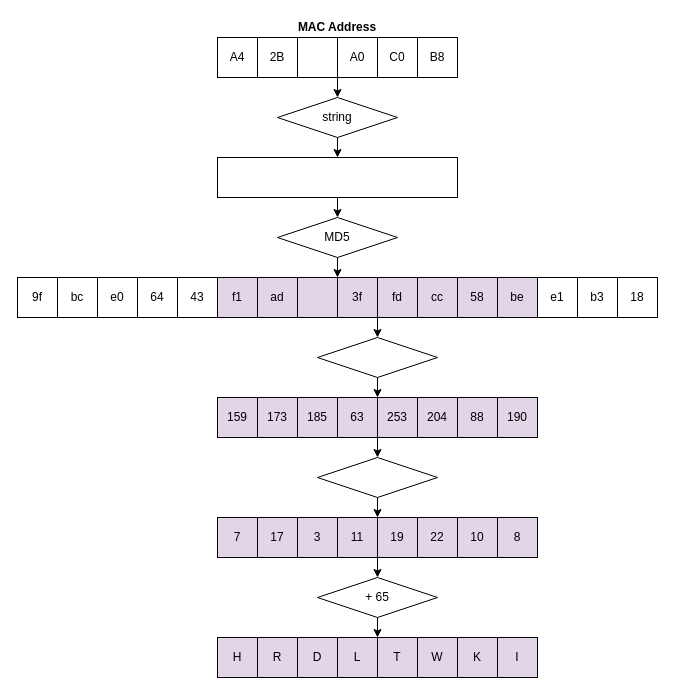
The diagram is 675 pixels wide and 695 high, and some of its shapes have lost their labels. The shapes that lost their labels are listed below. From the top down, each one's centre as x and y in pixels, then its label:
At [317,57]: "8C".
At [337,177]: "0xA42B8CA0C0B8".
At [317,297]: "b9".
At [377,357]: "as integer".
At [377,477]: "mod 26".
